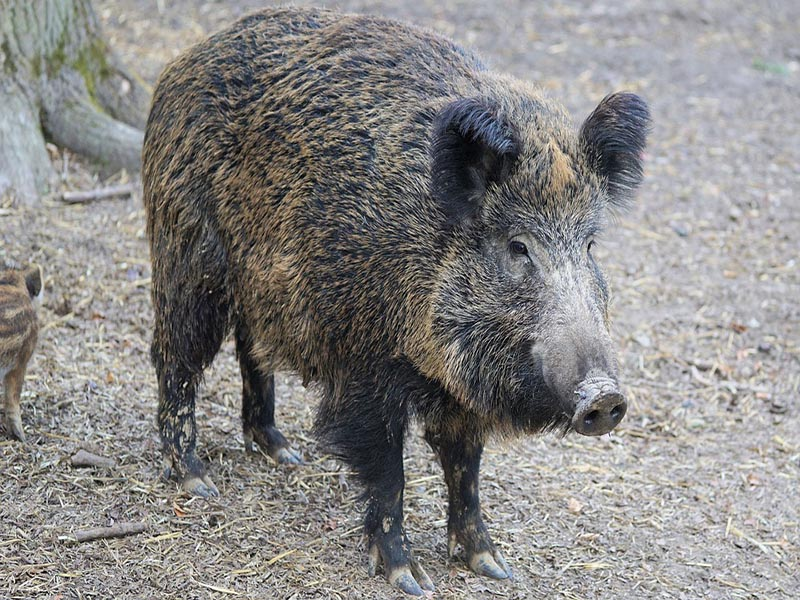cinghiale: (136, 5, 629, 566)
